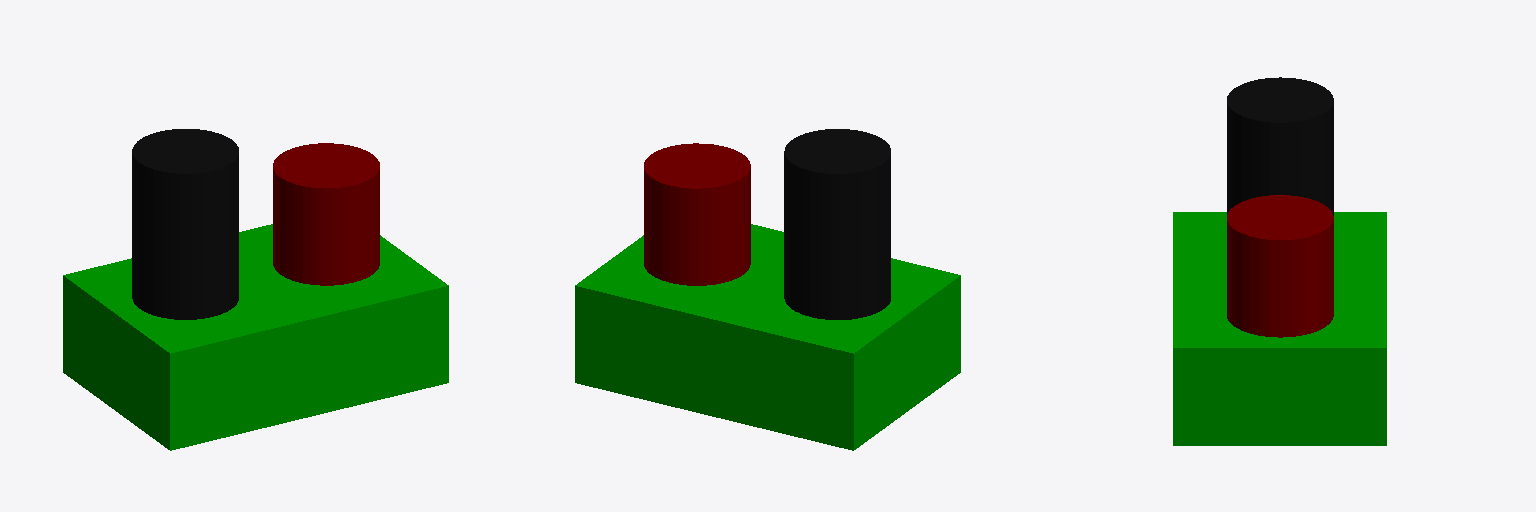
File: engine.obj
3 renders of one model, left to right at view 1: azimuth 30°, elevation 25°; view 2: azimuth 150°, elevation 25°; view 3: azimuth 270°, elevation 25°, orthographic.
Visible parts, largest first — view 1: Cube_Cube.001, Cylinder, Cylinder.001, Cylinder.003, Cylinder.002; view 2: Cube_Cube.001, Cylinder, Cylinder.001, Cylinder.003, Cylinder.002; view 3: Cube_Cube.001, Cylinder.001, Cylinder, Cylinder.003, Cylinder.002.
Boxes of the visible parts, x1,y1,x2,y2 form: Cube_Cube.001: [63, 224, 448, 450]; Cylinder: [132, 153, 238, 319]; Cylinder.001: [273, 169, 379, 285]; Cylinder.003: [273, 143, 379, 187]; Cylinder.002: [132, 129, 238, 173]; Cube_Cube.001: [575, 224, 960, 450]; Cylinder: [784, 153, 890, 319]; Cylinder.001: [644, 168, 750, 285]; Cylinder.003: [644, 143, 750, 188]; Cylinder.002: [784, 129, 890, 173]; Cube_Cube.001: [1173, 212, 1386, 445]; Cylinder.001: [1227, 220, 1333, 337]; Cylinder: [1227, 102, 1333, 215]; Cylinder.003: [1227, 195, 1333, 239]; Cylinder.002: [1227, 77, 1333, 122].
Bounding box in the file's own units: 3 × 2.5 × 2.